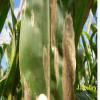Corn leaf blight: (20, 0, 75, 93)
